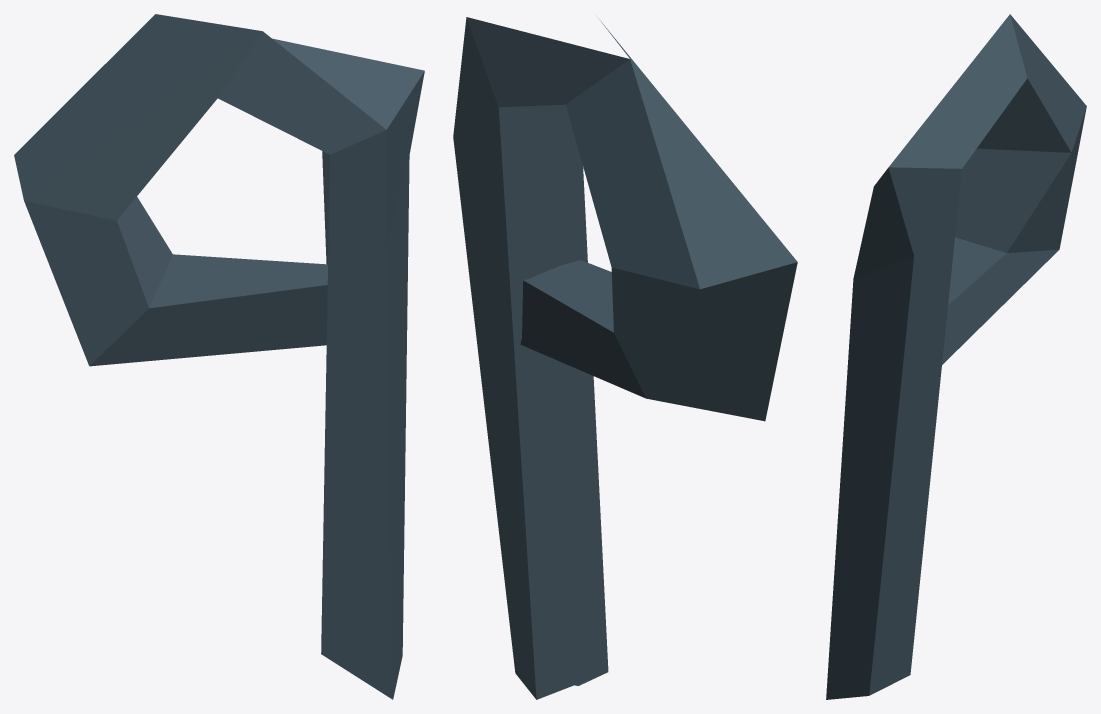
The model's file is lowercase-t.glb.
The picture shows the model from 3 angles, left to right: view 1: azimuth 30°, elevation 25°; view 2: azimuth 150°, elevation 25°; view 3: azimuth 270°, elevation 25°; orthographic projection. The views are drawn at different scales.
Bounding box in the file's own units: 0.2237 × 0.4033 × 0.1537.
